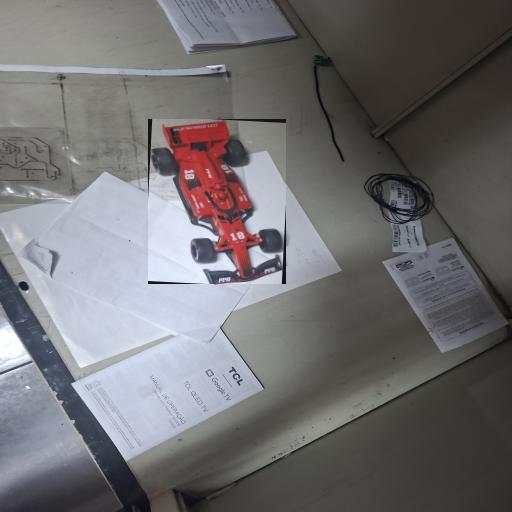carro: (149, 120, 285, 283)
